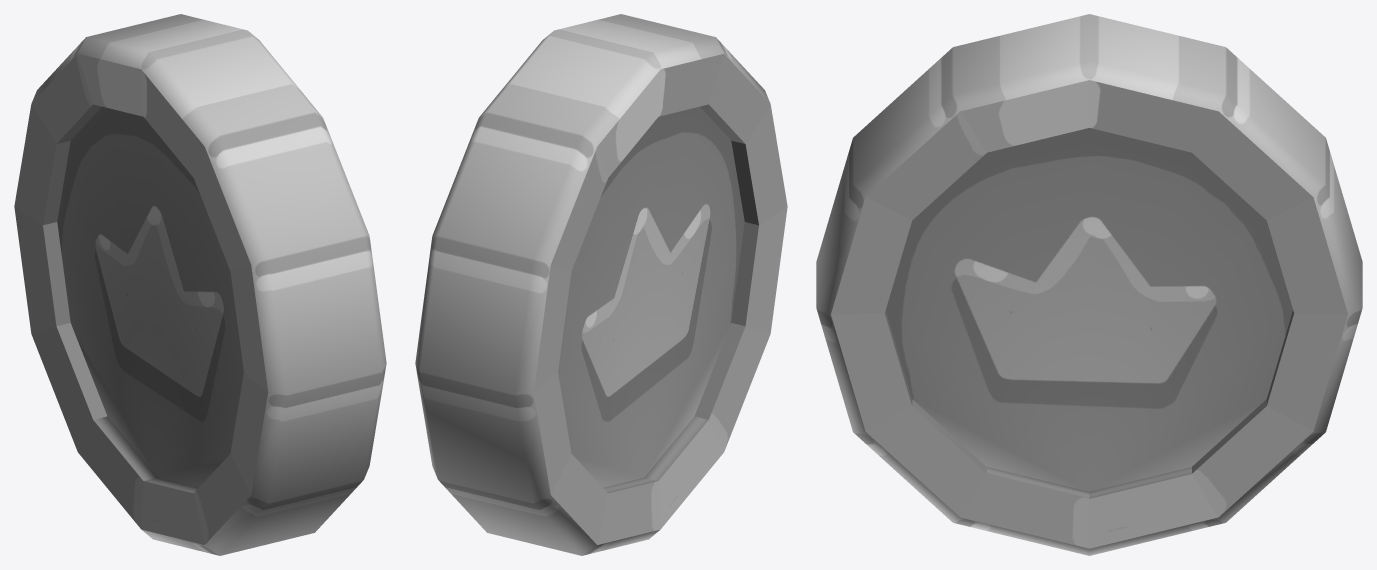
File: Coin.fbx
The picture shows the model from 3 angles, left to right: view 1: azimuth 30°, elevation 25°; view 2: azimuth 150°, elevation 25°; view 3: azimuth 270°, elevation 25°; orthographic projection.
Parts seen in each view (by area): view 1: Coin; view 2: Coin; view 3: Coin.
Part boxes in pixels (x1,y1,x2,y2): Coin: [14, 14, 386, 555]; Coin: [415, 14, 787, 555]; Coin: [816, 14, 1362, 555].
Size of the model in its own units: 34.99 by 137 by 137.
